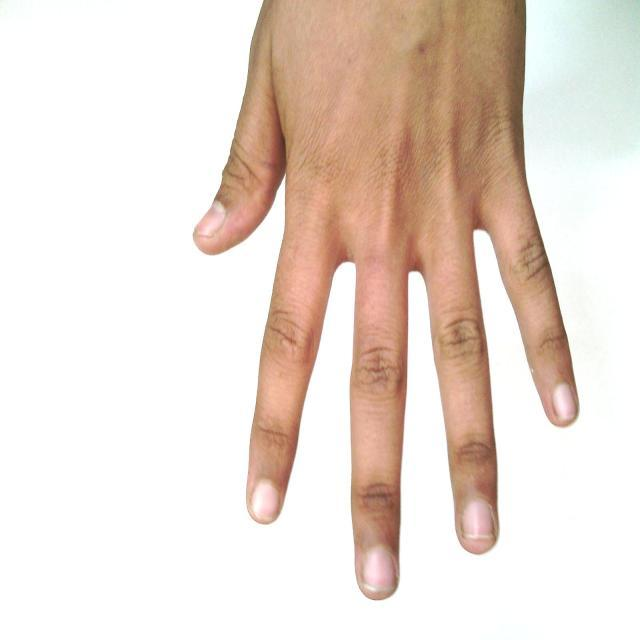Fingernail: (363, 549, 395, 594), (462, 501, 494, 540), (195, 202, 224, 236), (253, 482, 278, 521), (553, 385, 576, 421)
